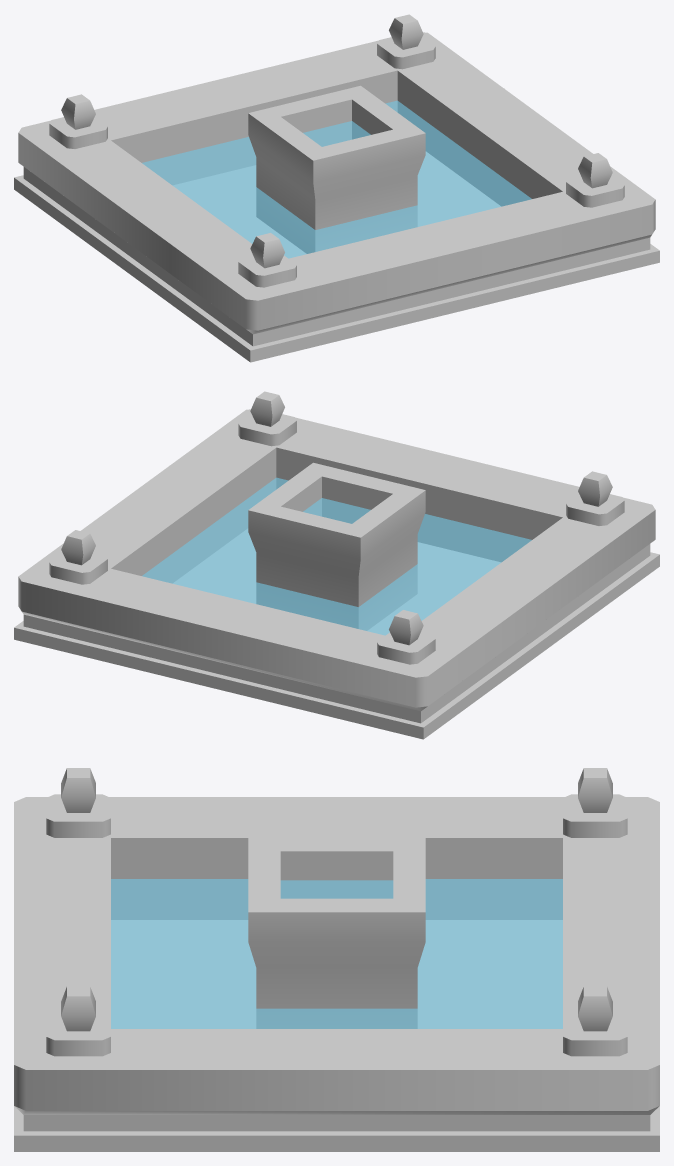
File: fountain-square-detail.glb
The picture shows the model from 3 angles, top to bottom: view 1: azimuth 30°, elevation 25°; view 2: azimuth 150°, elevation 25°; view 3: azimuth 270°, elevation 25°; orthographic projection. The views are drawn at different scales.
Visible parts, largest first — view 1: fountain-square-detail, (%ignore); view 2: fountain-square-detail, (%ignore); view 3: fountain-square-detail, (%ignore).
Boxes of the visible parts, bbox=[...] form: fountain-square-detail: bbox=[14, 14, 659, 362]; (%ignore): bbox=[142, 100, 531, 258]; fountain-square-detail: bbox=[14, 391, 659, 739]; (%ignore): bbox=[142, 477, 531, 635]; fountain-square-detail: bbox=[14, 768, 659, 1151]; (%ignore): bbox=[111, 879, 562, 1028].
Bounding box in the file's own units: 2 × 0.48 × 2.
